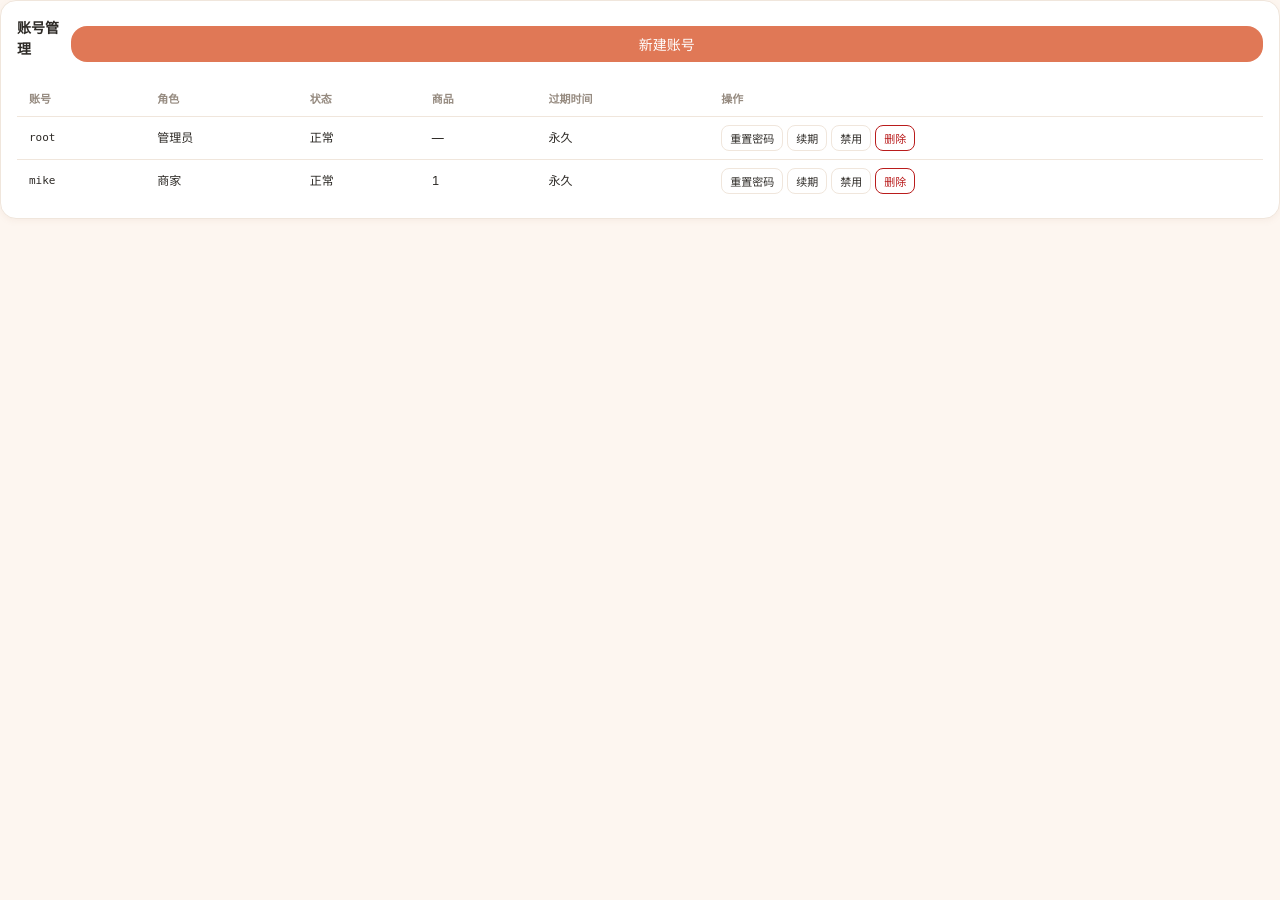
Test case: UsersTab › lists users and opens the new-user modal on 新建账号 click
The image size is (1280, 900).
expect the text "root" is shown: met, box [17,116,145,160]
Click the button "新建账号" at (667, 44), box [70,26,1263,62]
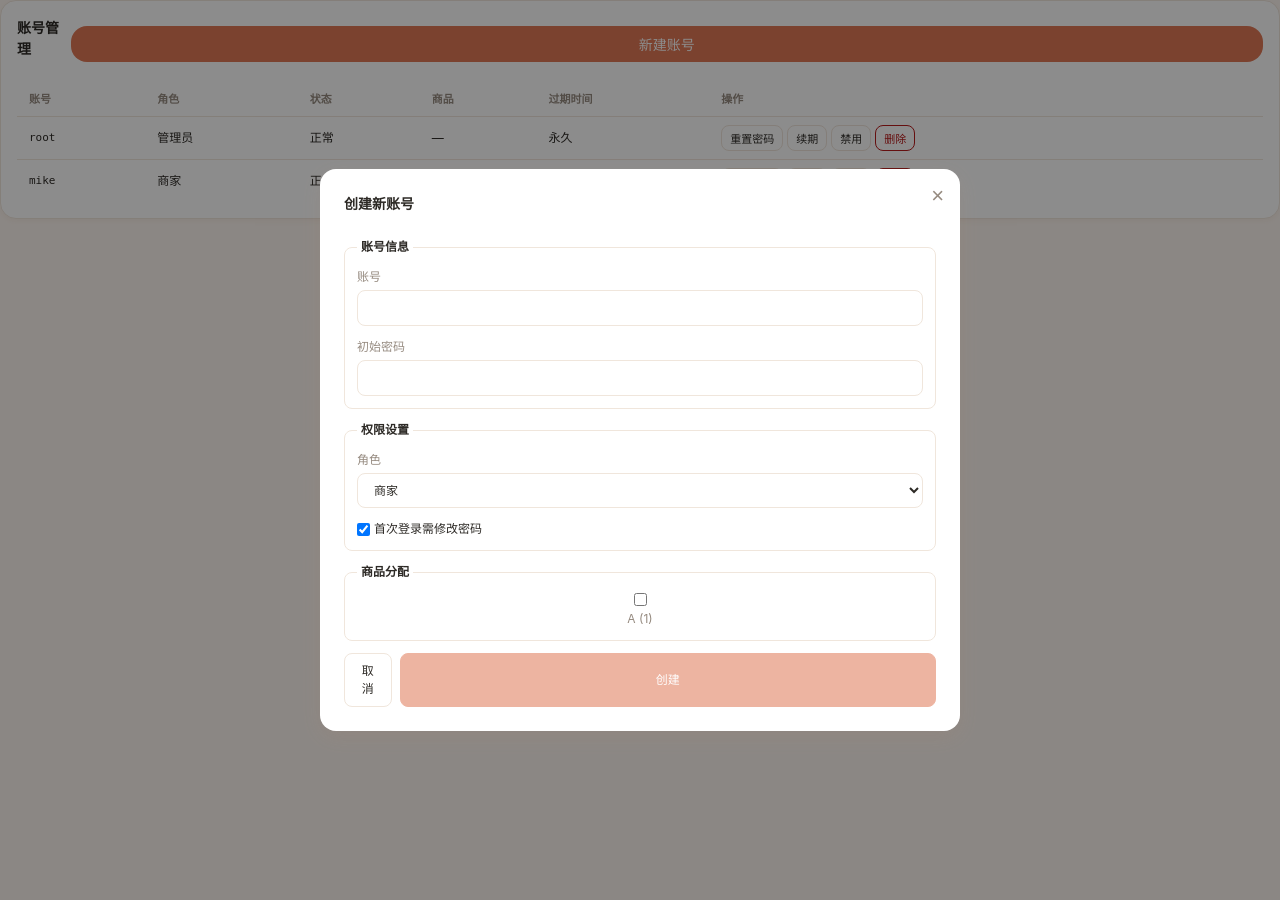
expect the heading "创建新账号" is shown: met, box [344,195,414,212]
expect the element "账号信息" is shown: met, box [344,238,936,409]
expect the element "权限设置" is shown: met, box [344,421,936,551]
